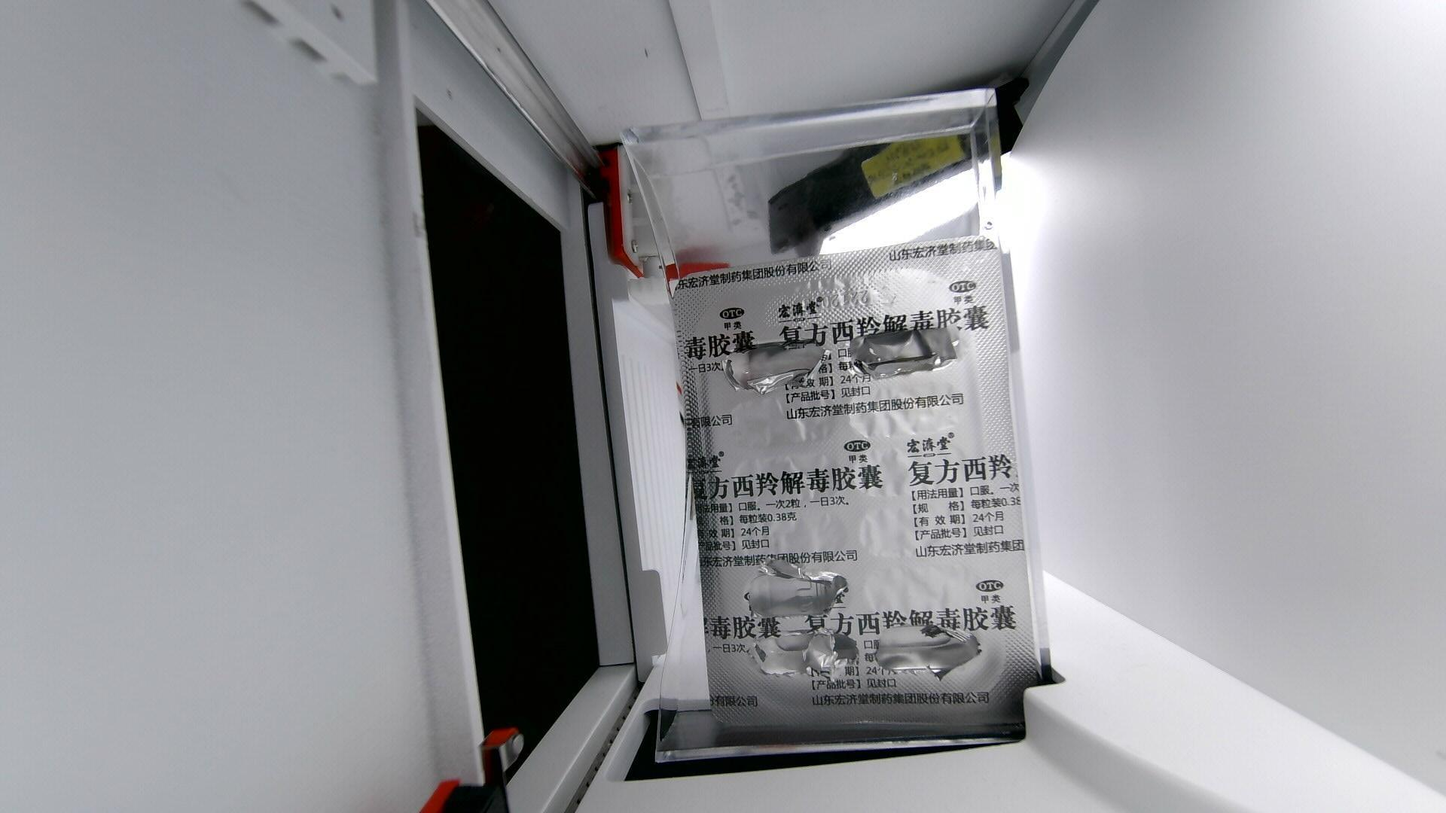No Pill Back: (838, 324, 972, 376), (738, 562, 857, 620), (874, 623, 990, 681), (738, 632, 860, 684), (721, 339, 824, 392)
Pill Back: (718, 504, 844, 565), (859, 495, 984, 549), (886, 557, 999, 611), (718, 399, 840, 446), (710, 455, 851, 490), (871, 451, 983, 494), (851, 394, 969, 432)
